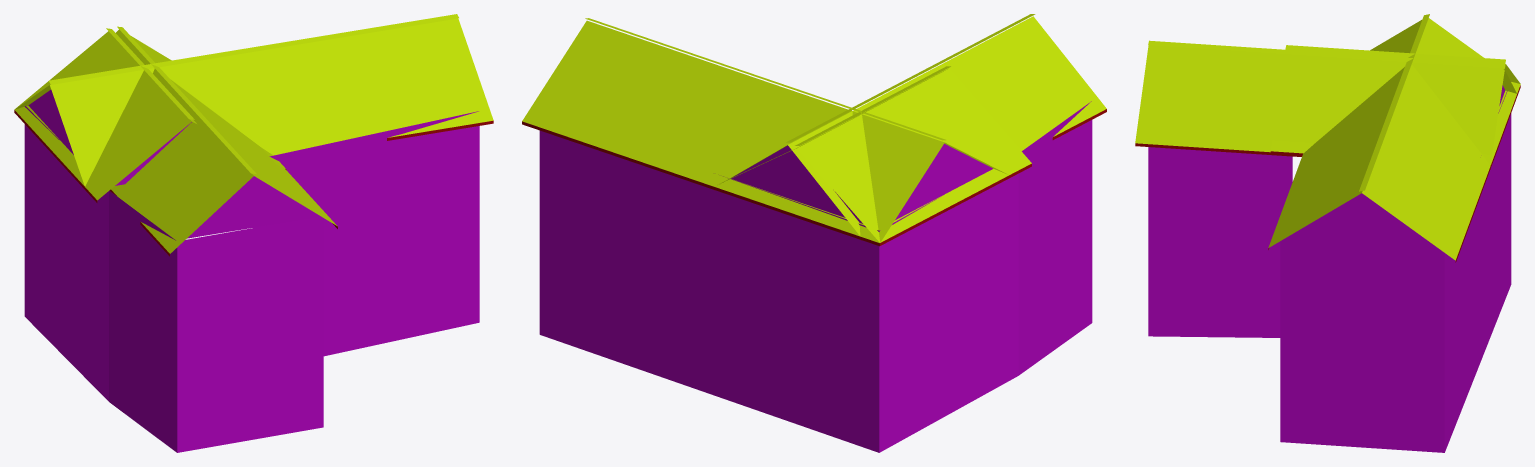
The model's file is bgj_288.glb.
3 renders of one model, left to right at view 1: azimuth 30°, elevation 25°; view 2: azimuth 150°, elevation 25°; view 3: azimuth 270°, elevation 25°, orthographic. The views are drawn at different scales.
Visible parts, largest first — view 1: bgj_288; view 2: bgj_288; view 3: bgj_288.
Part boxes in pixels (left/top/right/bottom): bgj_288: left=14, top=14, right=493, bottom=452; bgj_288: left=522, top=14, right=1106, bottom=452; bgj_288: left=1135, top=14, right=1520, bottom=452.
Bounding box in the file's own units: 17.24 × 11.02 × 14.71.
